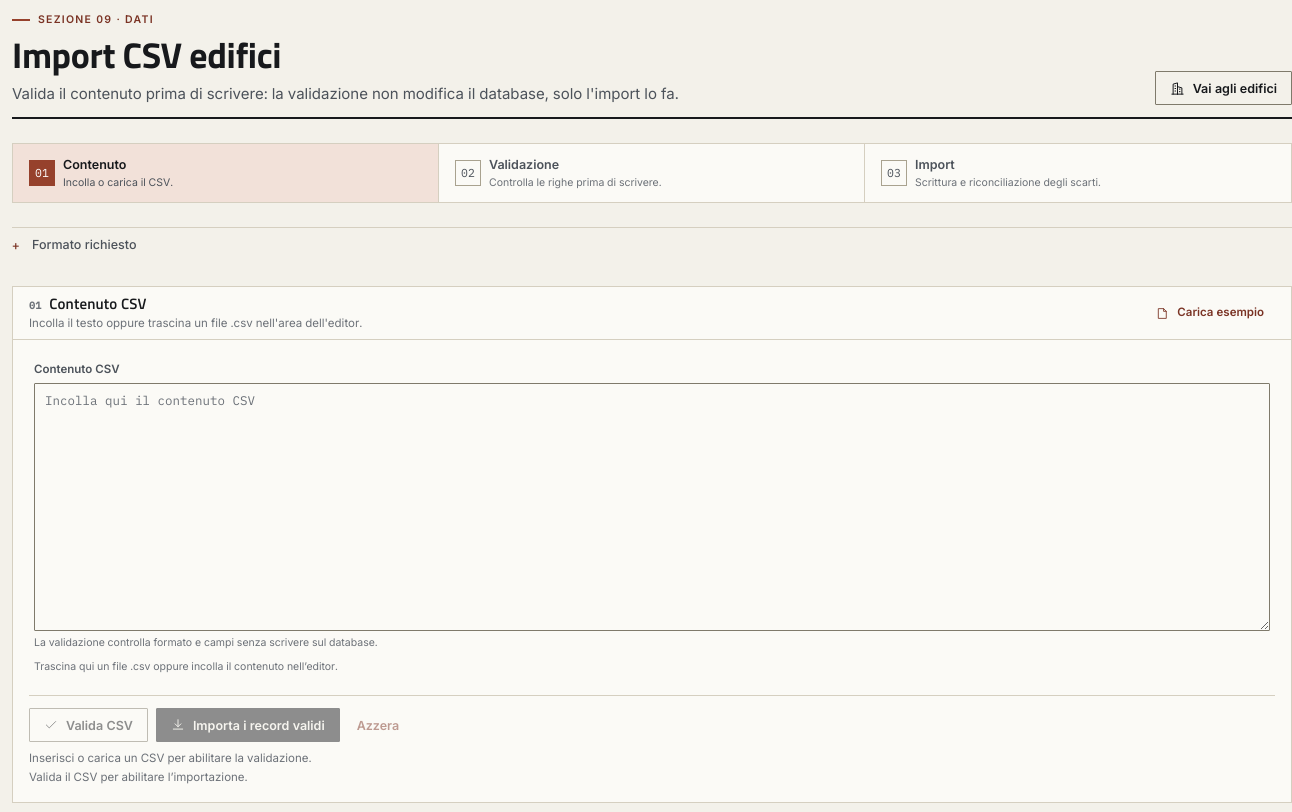
Test: ImportPage › conferma l'import e riconcilia gli scarti con skippedDetails
The image size is (1292, 812).
Click the button "Carica esempio". click: (1210, 313)
box: [1145, 299, 1275, 327]
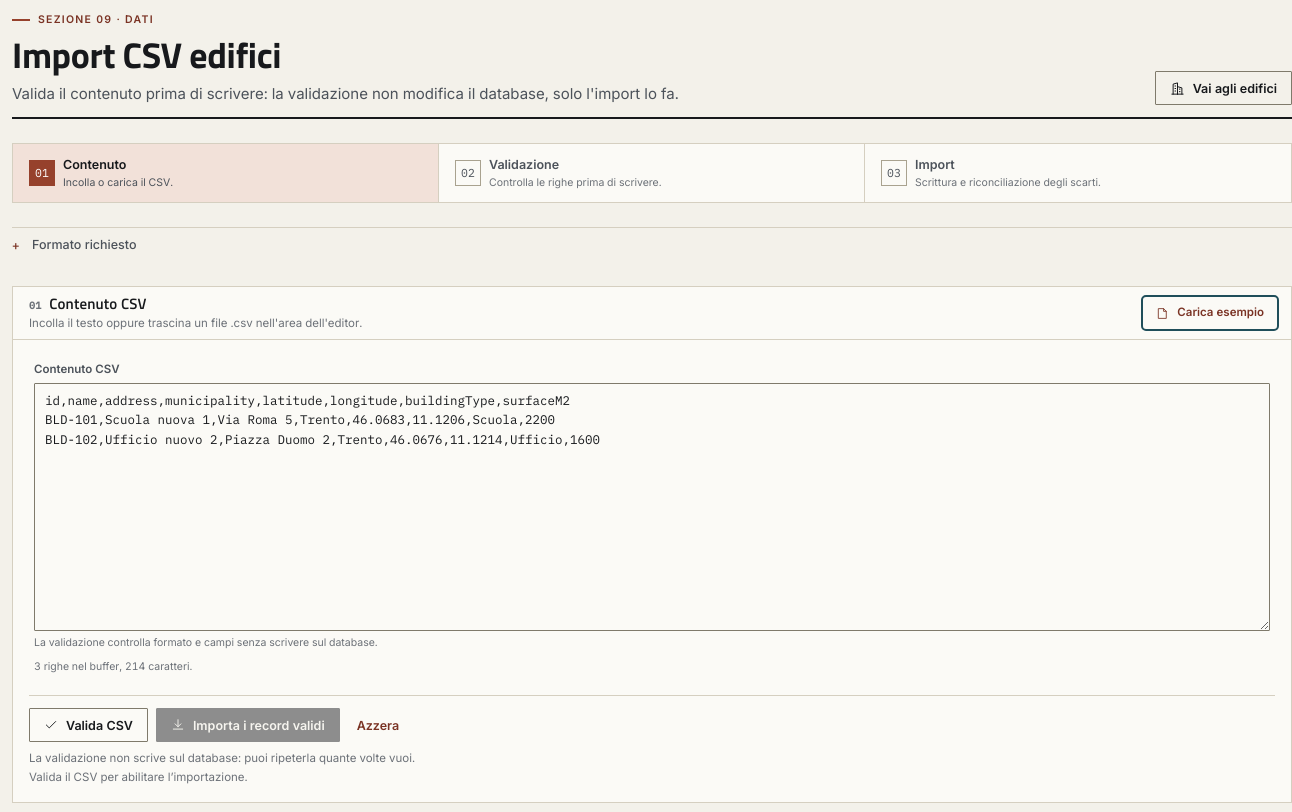
Click the button "Valida CSV". click: (88, 725)
box: [29, 708, 148, 742]
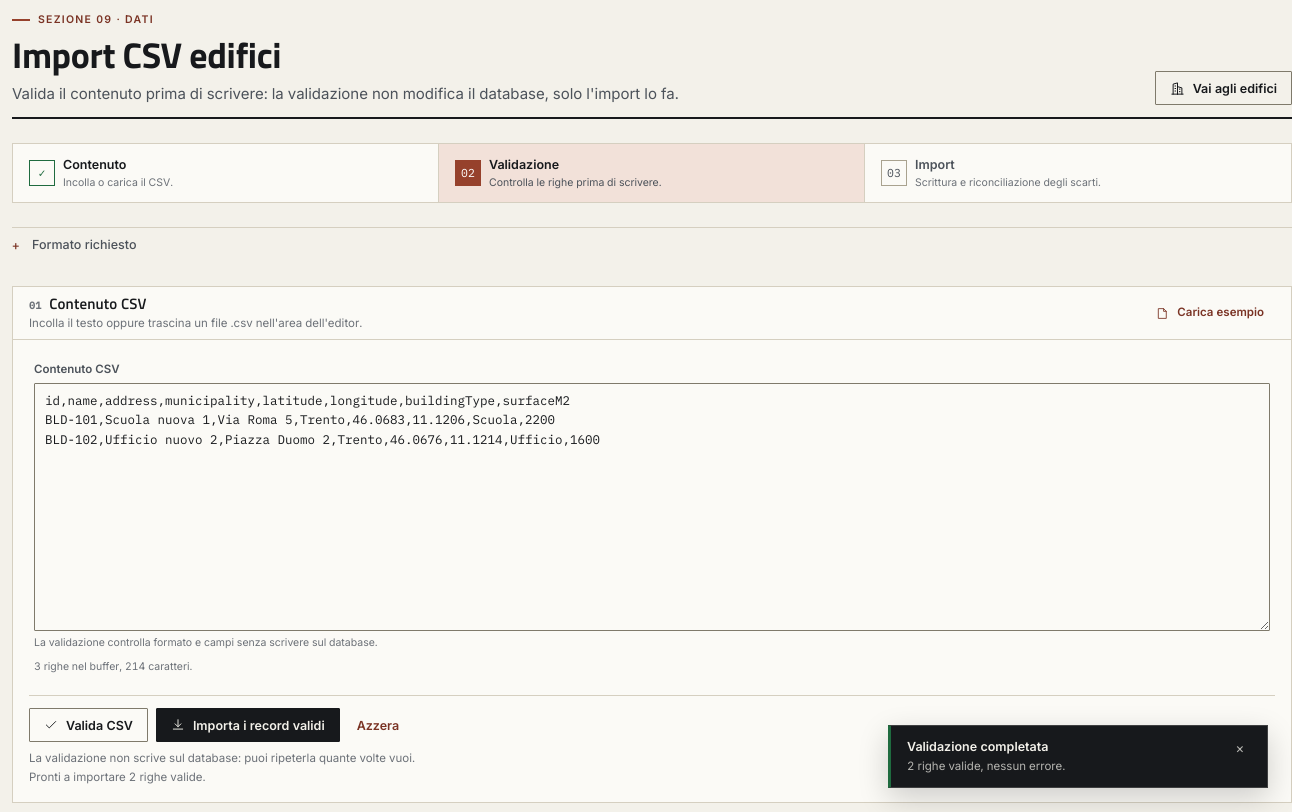
Click the button "Importa i record validi". click: (248, 725)
box: [156, 708, 340, 742]
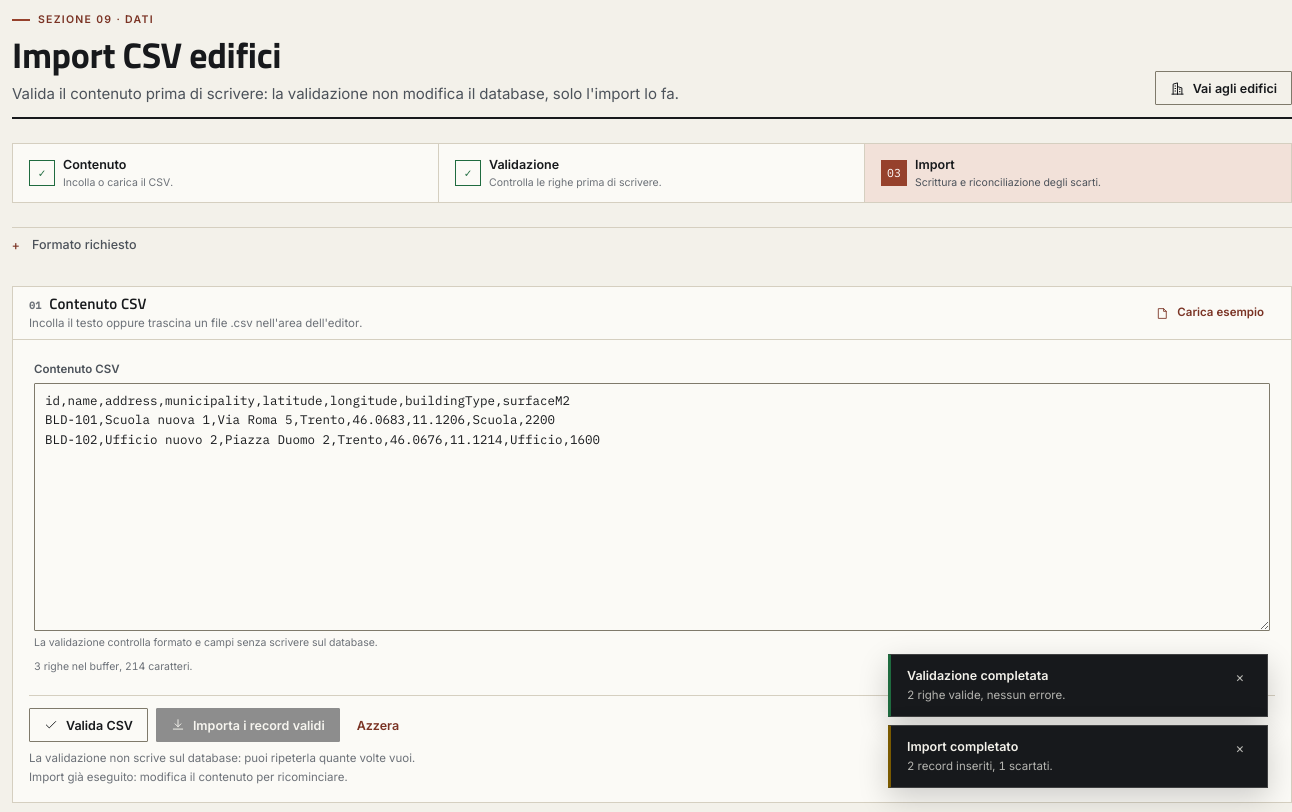
expect the text "Import completato" is shown: met, box [907, 739, 1018, 754]
